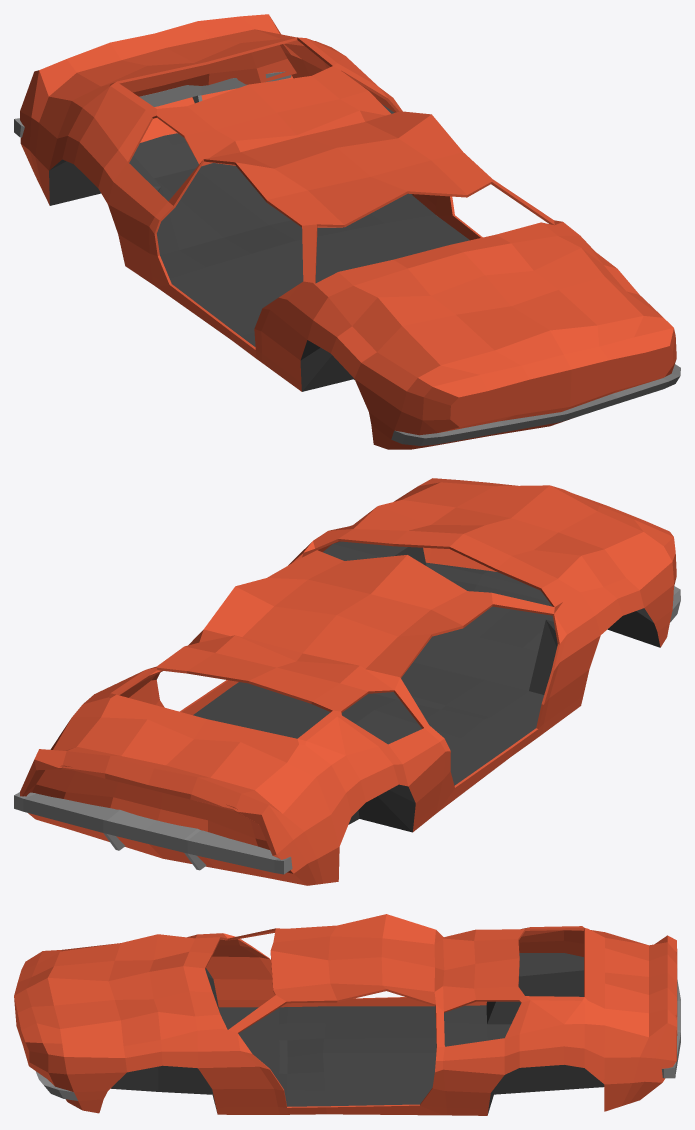
The model's file is MM_Level1_DestroyedCar.fbx.
3 views of the same model, one above another, from view 1: azimuth 30°, elevation 25°; view 2: azimuth 150°, elevation 25°; view 3: azimuth 270°, elevation 25° (orthographic). The views are drawn at different scales.
Parts seen in each view (by area): view 1: Destroyed Car2; view 2: Destroyed Car2; view 3: Destroyed Car2.
Boxes of the visible parts, left/top/right/bottom form: Destroyed Car2: left=14, top=14, right=680, bottom=449; Destroyed Car2: left=14, top=478, right=680, bottom=885; Destroyed Car2: left=14, top=914, right=680, bottom=1115.
Size of the model in its own units: 440 by 198 by 1080.
